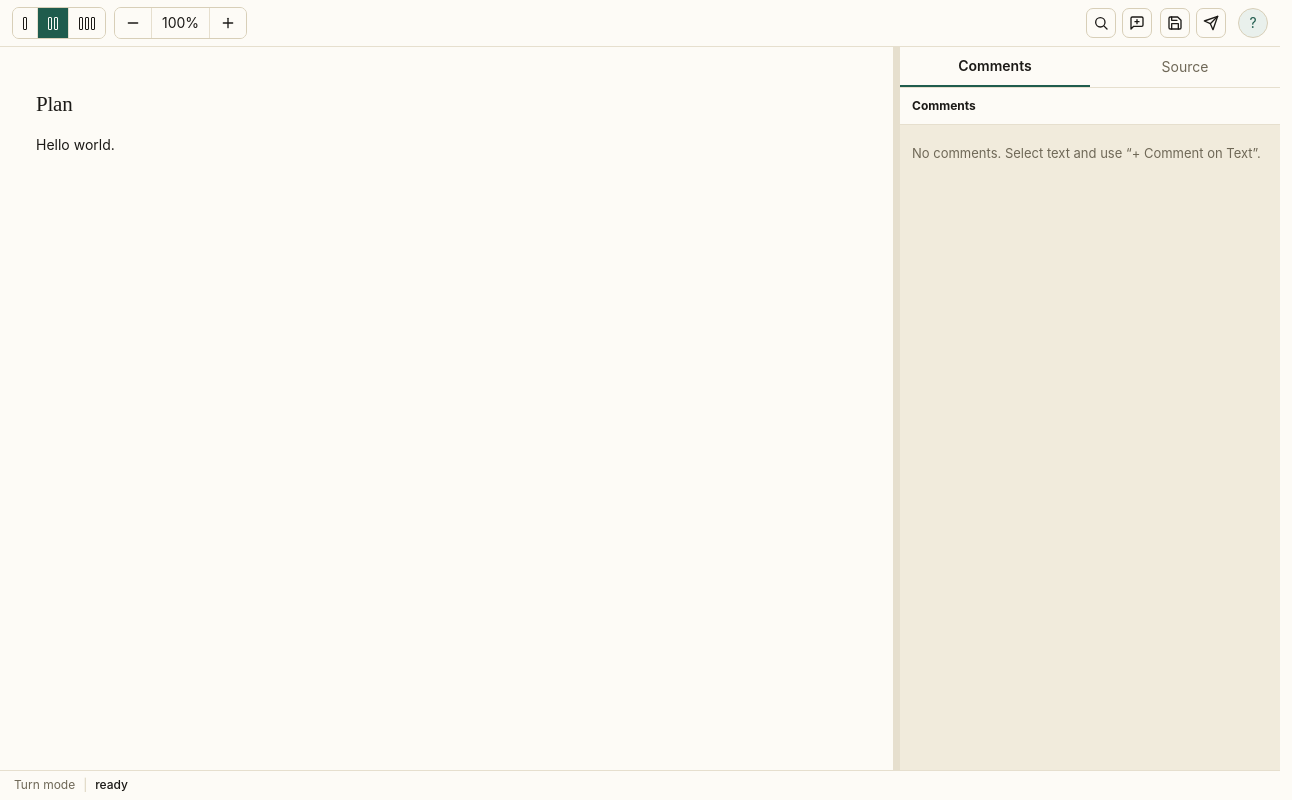
Test: App preview context menu (item 3) › 'Select all' runs and closes the menu without error
Right-click the element with class "ap-rendered": (54, 104) [36,92,115,153]
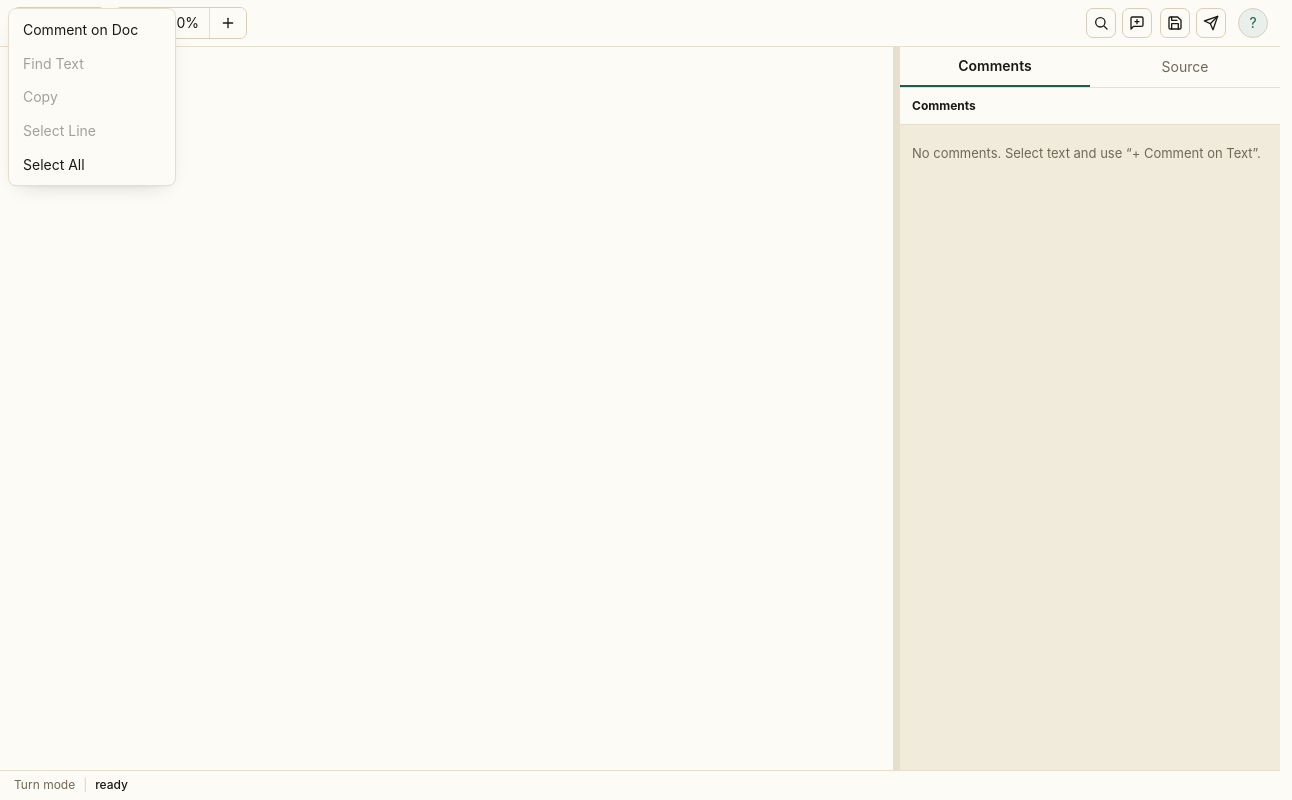
Click the menu item "Select All": (92, 165) [13,148,171,182]
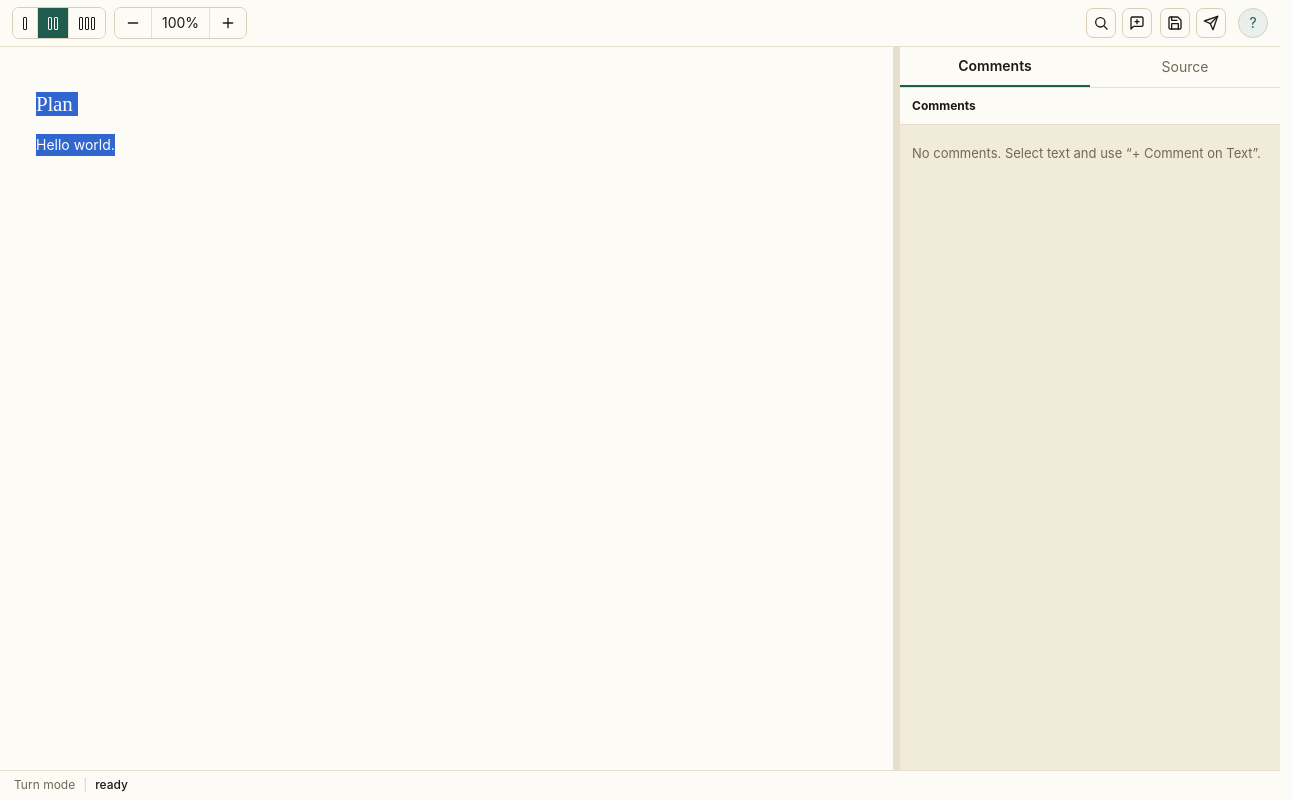
Expected: the menu item "Select All" is gone
